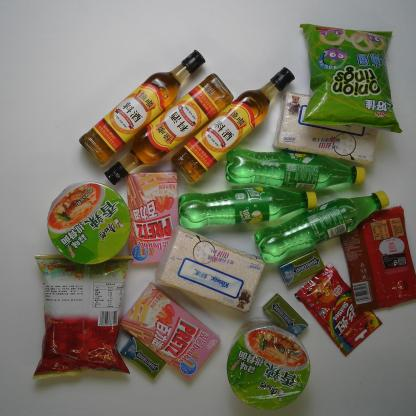Candy: (295, 264, 390, 364)
Dessert: (118, 285, 228, 380), (332, 201, 416, 310), (116, 163, 180, 269)
Drink: (250, 180, 402, 265), (216, 138, 366, 197), (176, 181, 326, 231)
Gum: (121, 336, 174, 388), (275, 242, 328, 292), (260, 288, 307, 341)
Instant Noodles: (37, 172, 142, 276), (224, 304, 319, 414)
Puffed Food: (15, 232, 139, 389), (293, 11, 408, 139)
Seasoner: (81, 38, 213, 167), (173, 65, 297, 190), (105, 72, 232, 188)
Tissue: (155, 224, 279, 320), (278, 81, 388, 168)
